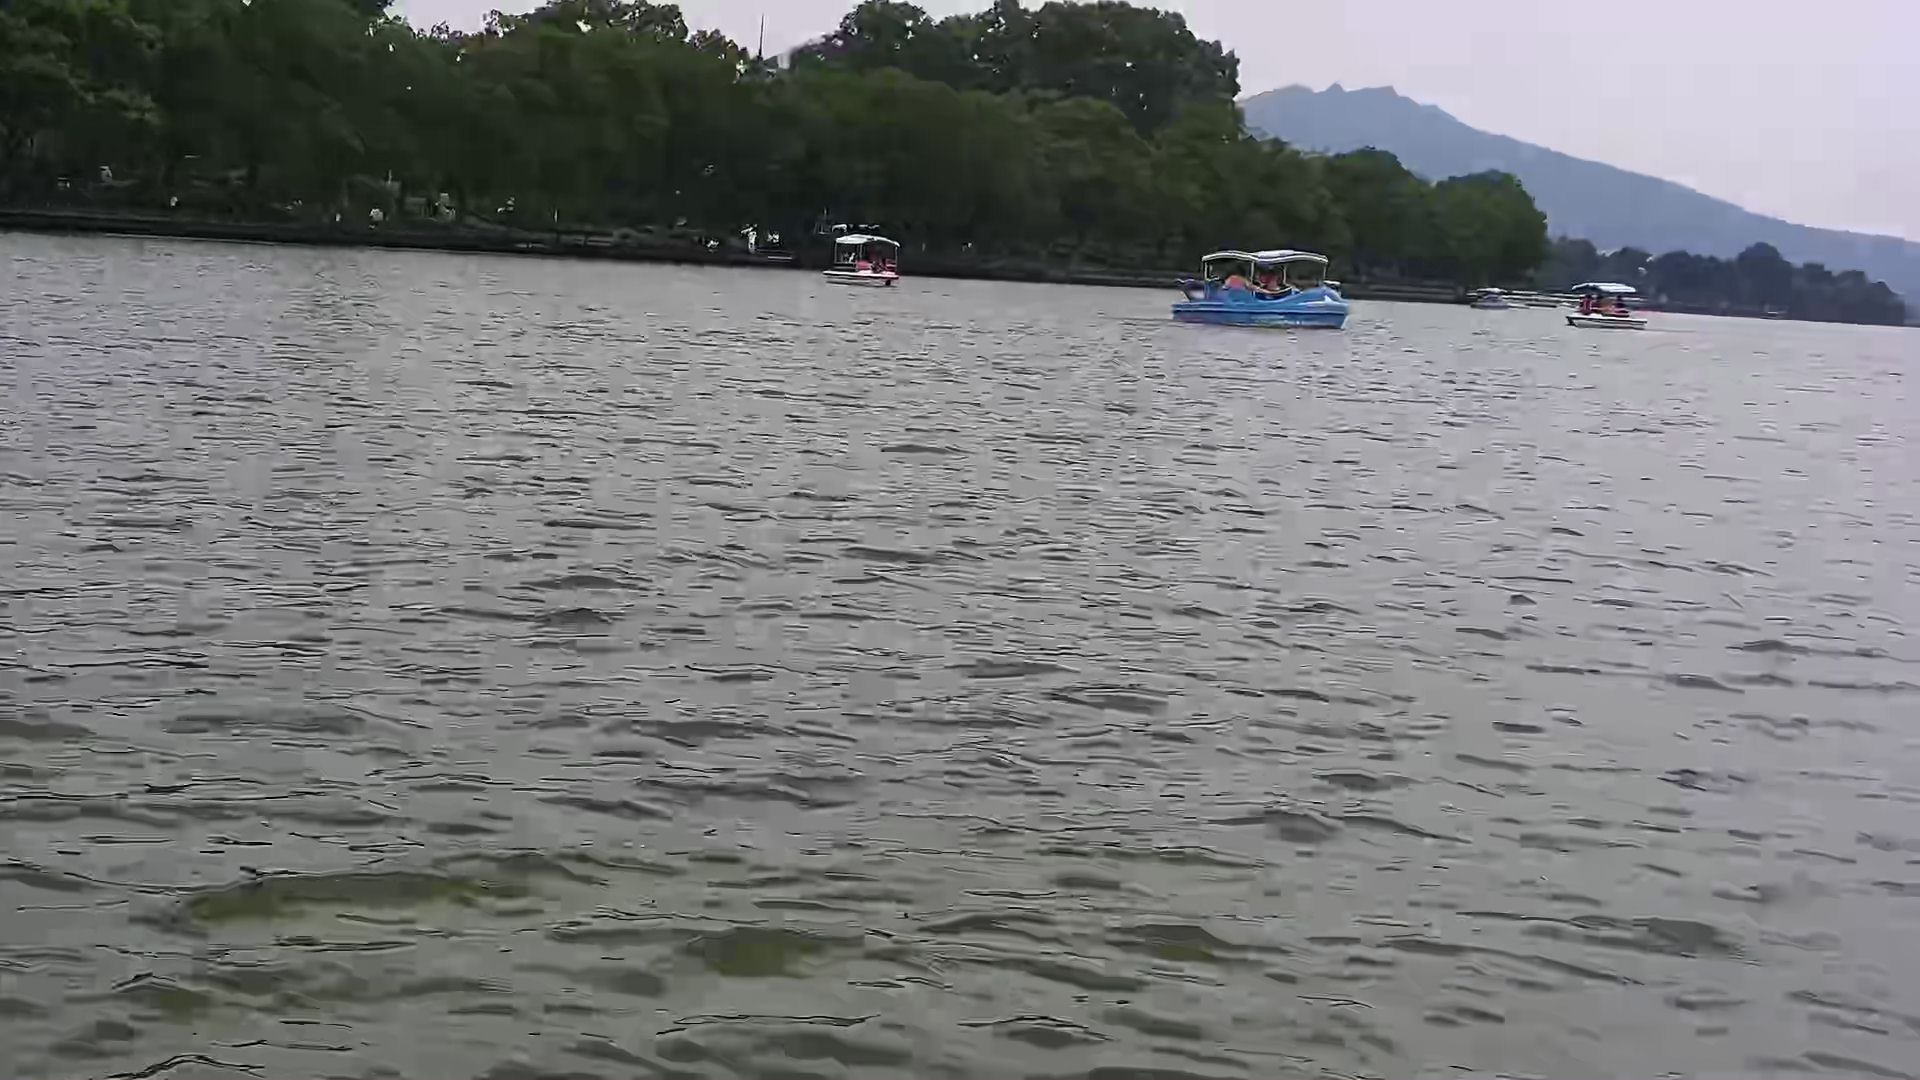boat: (1167, 243, 1346, 330), (1560, 280, 1656, 336), (824, 229, 909, 287)
